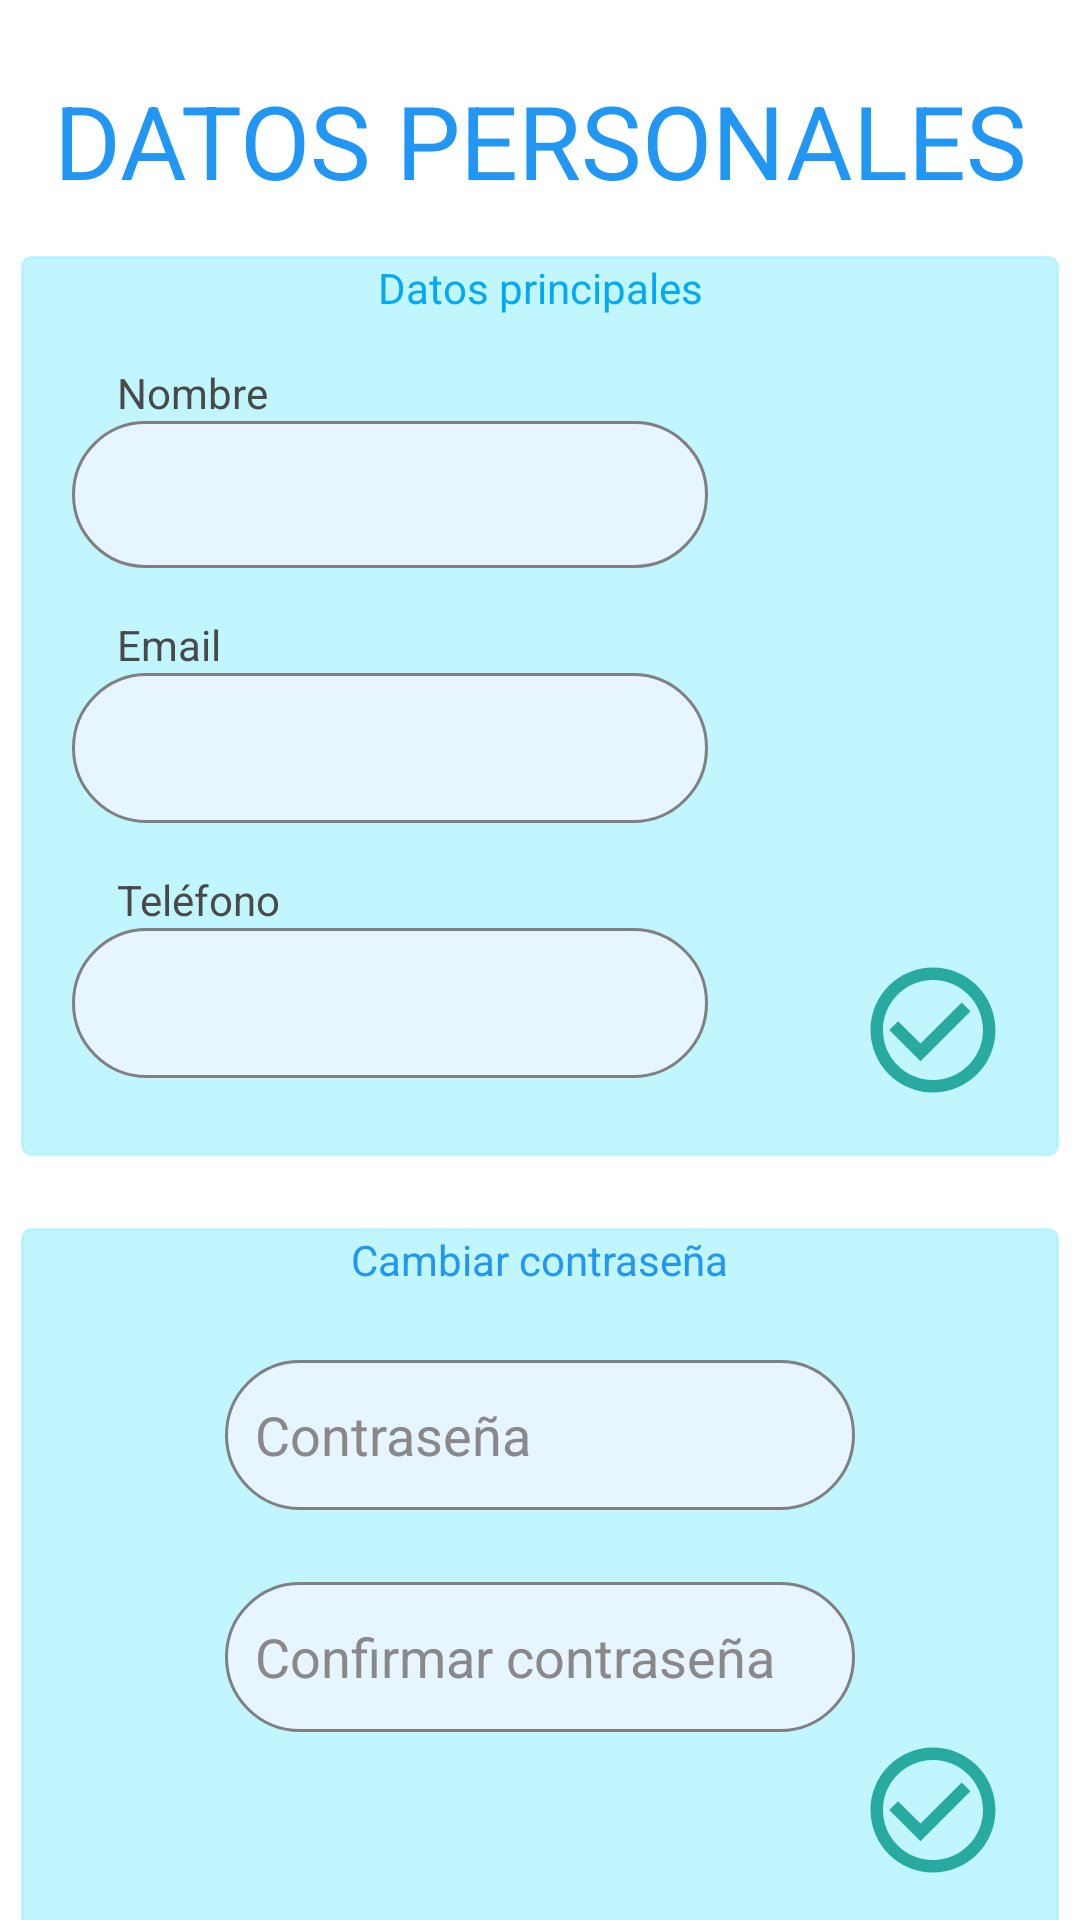

Icon bounding boxes for this 1080 × 1920 phone screenshot, format (x1, y1, x2, y2):
check circle: (870, 967, 996, 1093), (870, 1747, 996, 1873)
